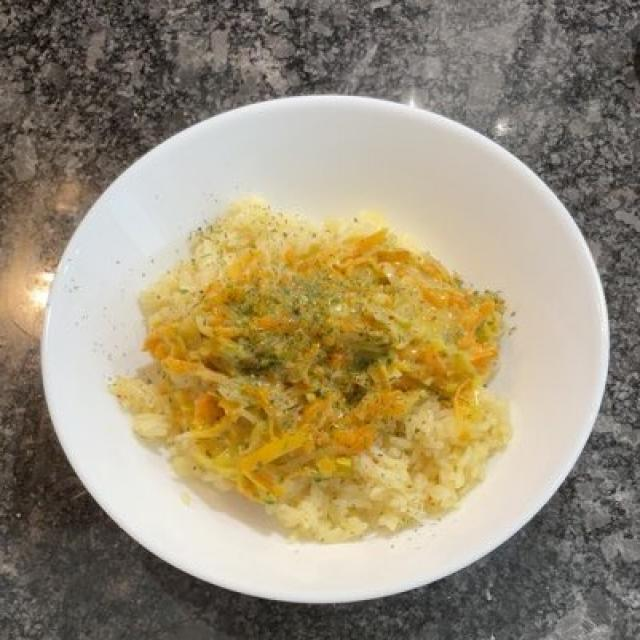carrot-raw: (142, 229, 495, 469)
leek: (231, 272, 460, 399)
rice: (124, 217, 513, 559)
